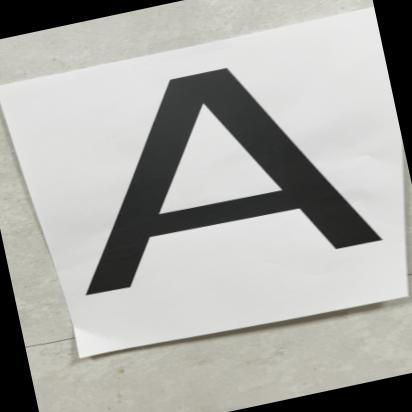seat: (24, 28, 394, 324)
